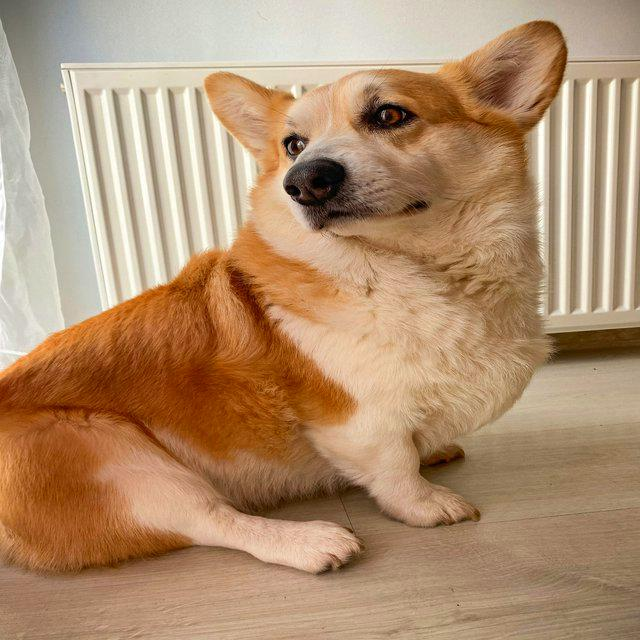corgi: (1, 18, 570, 577)
